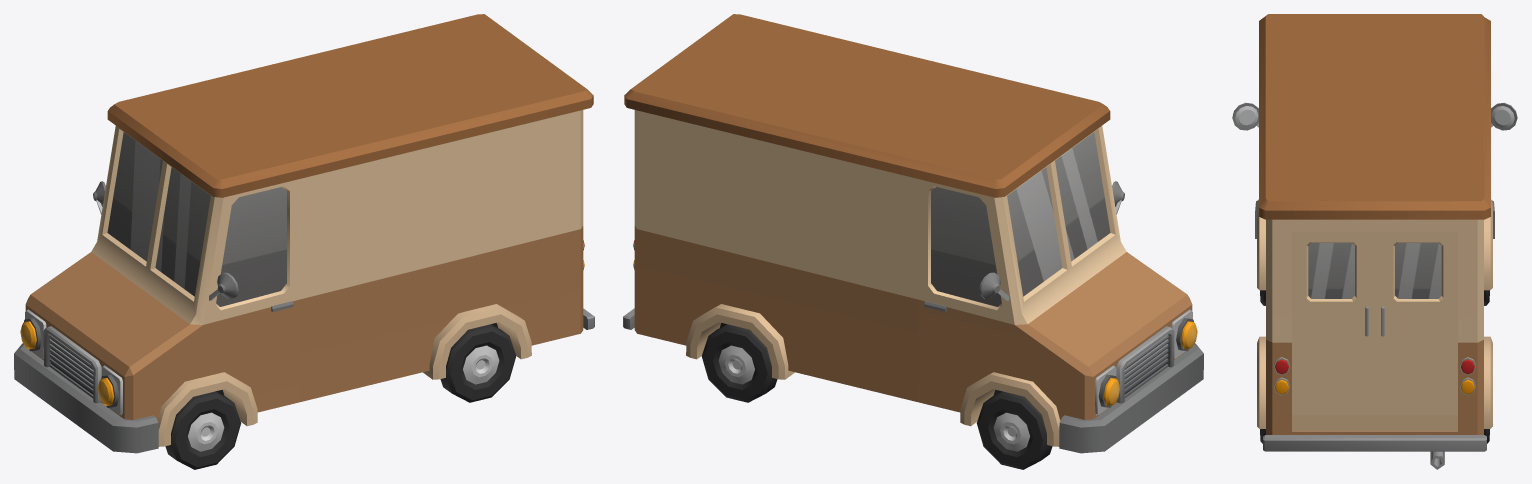
File: Car_16_H.gltf
3 views of the same model, side by side, from view 1: azimuth 30°, elevation 25°; view 2: azimuth 150°, elevation 25°; view 3: azimuth 270°, elevation 25° (orthographic). The views are drawn at different scales.
Visible parts, largest first — view 1: Car_16_H, RL, FL; view 2: Car_16_H, RR, FR; view 3: Car_16_H.
Part boxes in pixels (x1,y1,x2,y2): Car_16_H: (14, 14, 594, 453); RL: (440, 324, 516, 402); FL: (165, 391, 241, 469); Car_16_H: (623, 14, 1203, 453); RR: (701, 324, 777, 402); FR: (976, 391, 1052, 469); Car_16_H: (1232, 14, 1517, 469).
Bounding box in the file's own units: 3.66 × 2.04 × 1.8.
4 materials, 4 textured.
